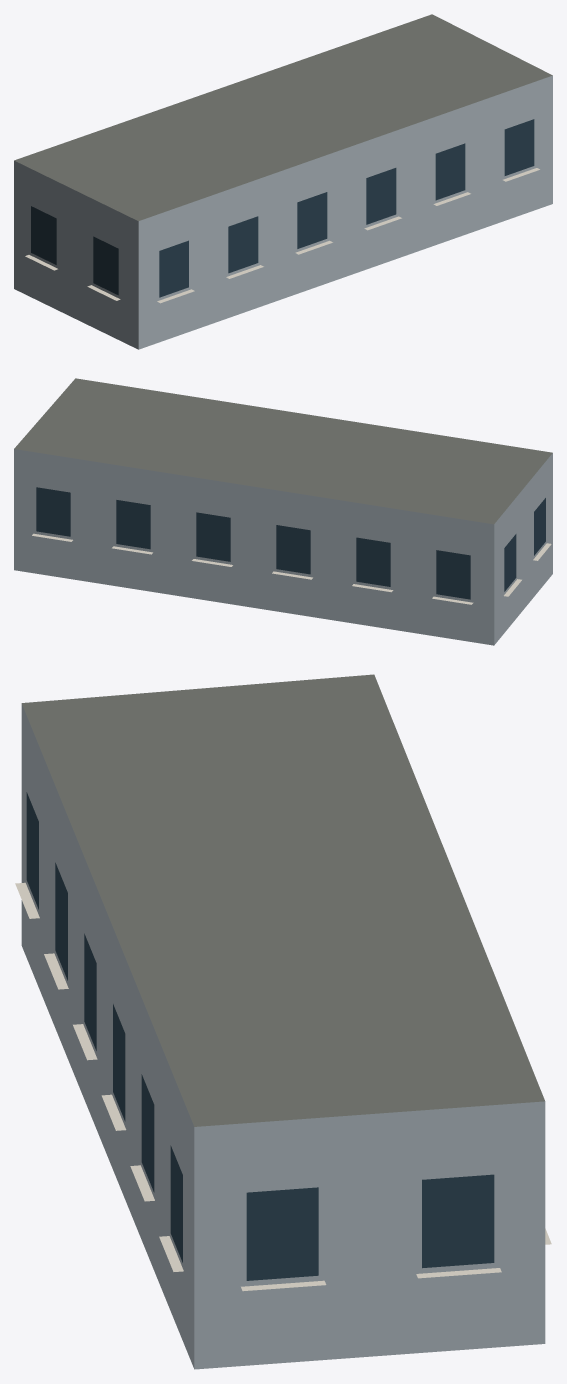
3 views of the same model, one above another, from view 1: azimuth 30°, elevation 25°; view 2: azimuth 150°, elevation 25°; view 3: azimuth 270°, elevation 25° (orthographic). The views are drawn at different scales.
Visible parts, largest first — view 1: Footprint 0, Inferred window bays, Window sills; view 2: Footprint 0, Inferred window bays, Window sills; view 3: Footprint 0, Inferred window bays, Window sills.
Boxes of the visible parts, x1=… form: Footprint 0: x1=14, y1=14, x2=552, y2=349; Inferred window bays: x1=31, y1=119, x2=534, y2=297; Window sills: x1=25, y1=168, x2=539, y2=303; Footprint 0: x1=14, y1=378, x2=552, y2=645; Inferred window bays: x1=36, y1=487, x2=545, y2=599; Window sills: x1=32, y1=533, x2=551, y2=604; Footprint 0: x1=21, y1=674, x2=545, y2=1369; Inferred window bays: x1=26, y1=792, x2=494, y2=1280; Window sills: x1=15, y1=882, x2=551, y2=1291.
Size of the model in its own units: 18.29 by 4.53 by 9.08.
